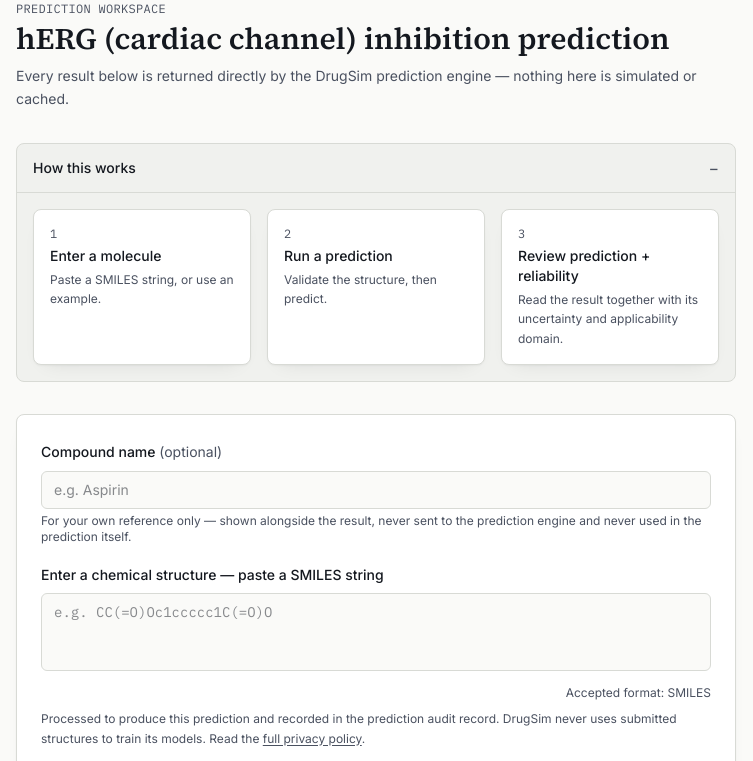
it: PredictPage › shows an honest error state for an invalid molecule instead of a fabricated result
Type "not-a-smiles-string" into the text box labelled "Enter a chemical structure — paste a SMILES string".
click(376, 632); type("not-a-smiles-string")  # box [41,593,711,671]
(page scrolled)
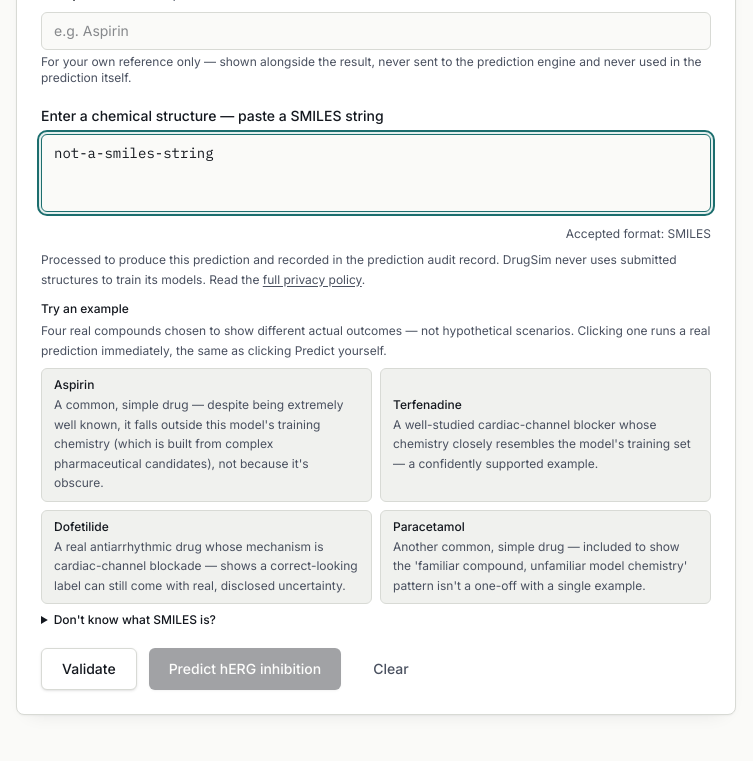
Click the button "Validate".
click(89, 669)  # box [41,648,137,690]
(page scrolled)
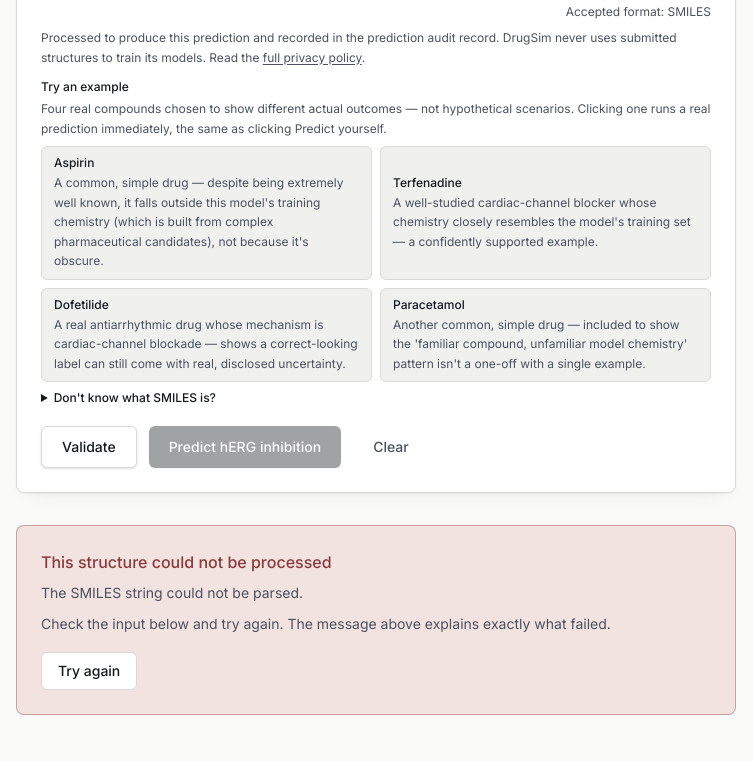
Expected: the message is shown, [16,525,736,714]
Expected: the text "This structure could not be processed" is shown, [41,552,332,572]
